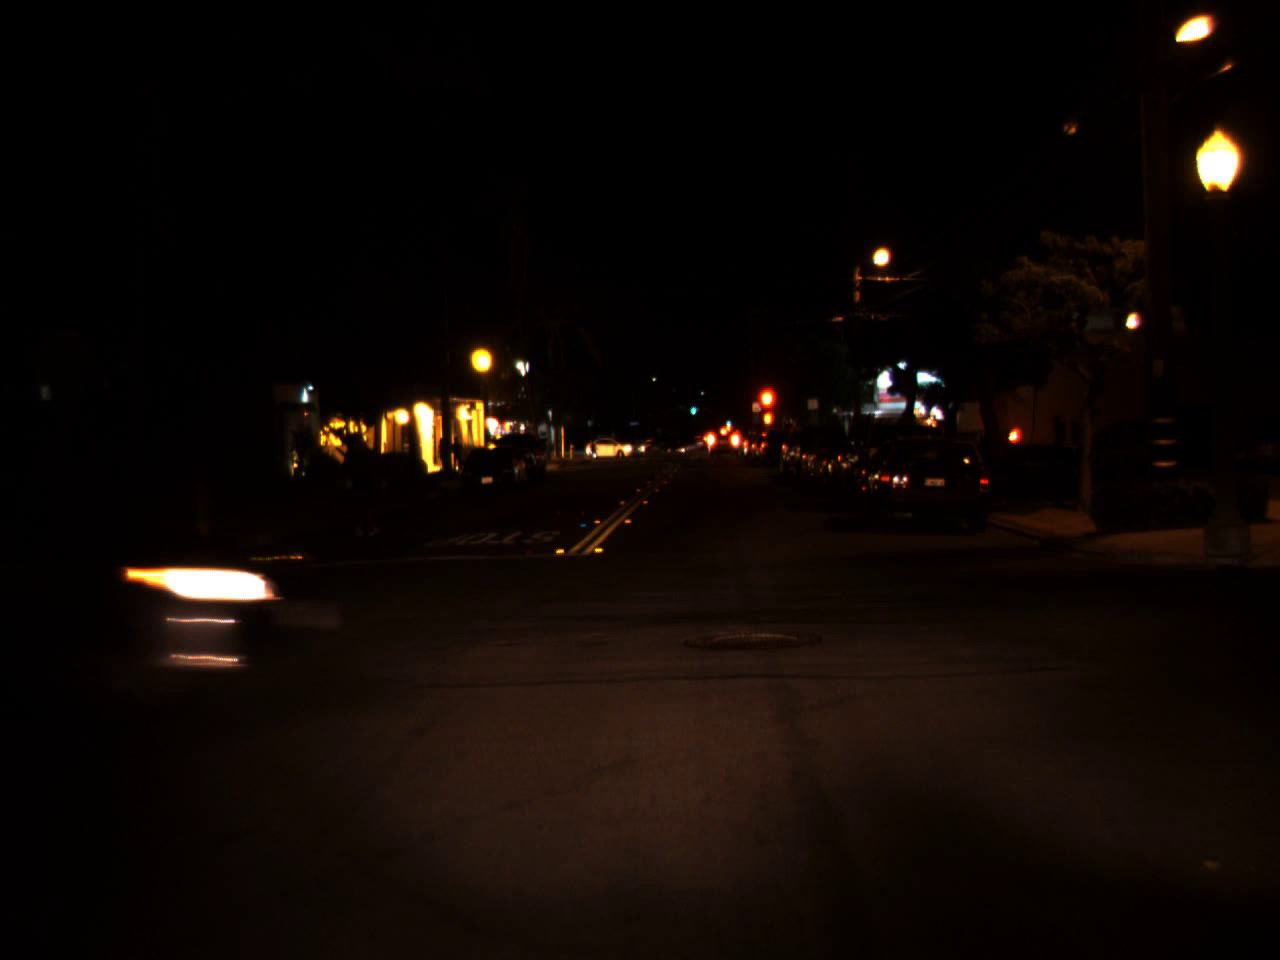go: (687, 399, 696, 414), (724, 413, 731, 425)
stop: (756, 385, 780, 433)
